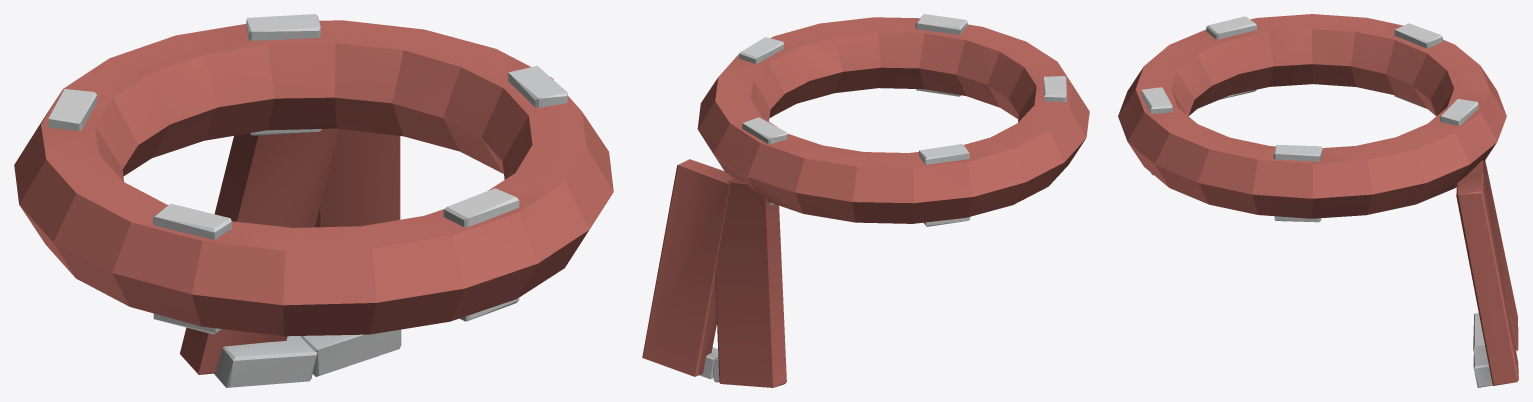
The model's file is snowman_part_scarf_low.glb.
3 renders of one model, left to right at view 1: azimuth 30°, elevation 25°; view 2: azimuth 150°, elevation 25°; view 3: azimuth 270°, elevation 25°, orthographic. The views are drawn at different scales.
Size of the model in its own units: 0.4881 by 0.3397 by 0.5034.
